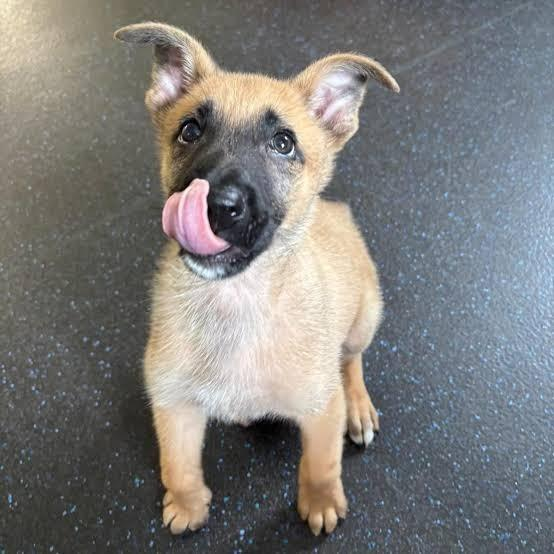puppy-dog: (112, 21, 402, 537)
